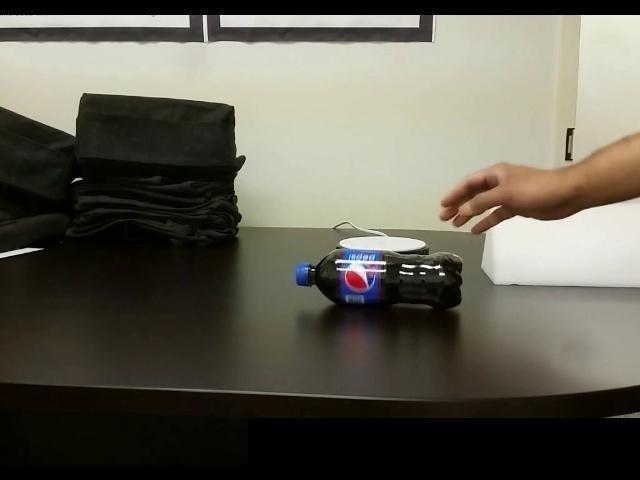bottle-plastic: (295, 246, 468, 312)
